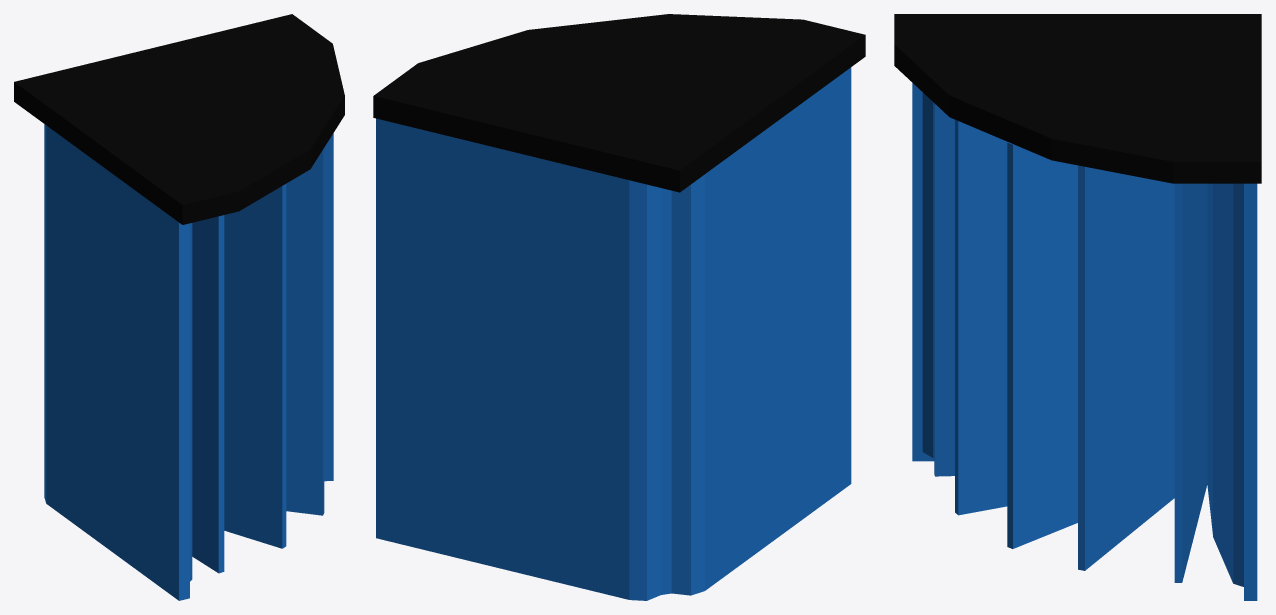
The model's file is SM_table.fbx.
The picture shows the model from 3 angles, left to right: view 1: azimuth 30°, elevation 25°; view 2: azimuth 150°, elevation 25°; view 3: azimuth 270°, elevation 25°; orthographic projection. The views are drawn at different scales.
Visible parts, largest first — view 1: Cube_80; view 2: Cube_80; view 3: Cube_80.
Part boxes in pixels (bbox=[...]): Cube_80: bbox=[14, 14, 344, 600]; Cube_80: bbox=[373, 14, 865, 600]; Cube_80: bbox=[894, 14, 1261, 600].
Bounding box in the file's own units: 65.41 × 90.53 × 68.63.
